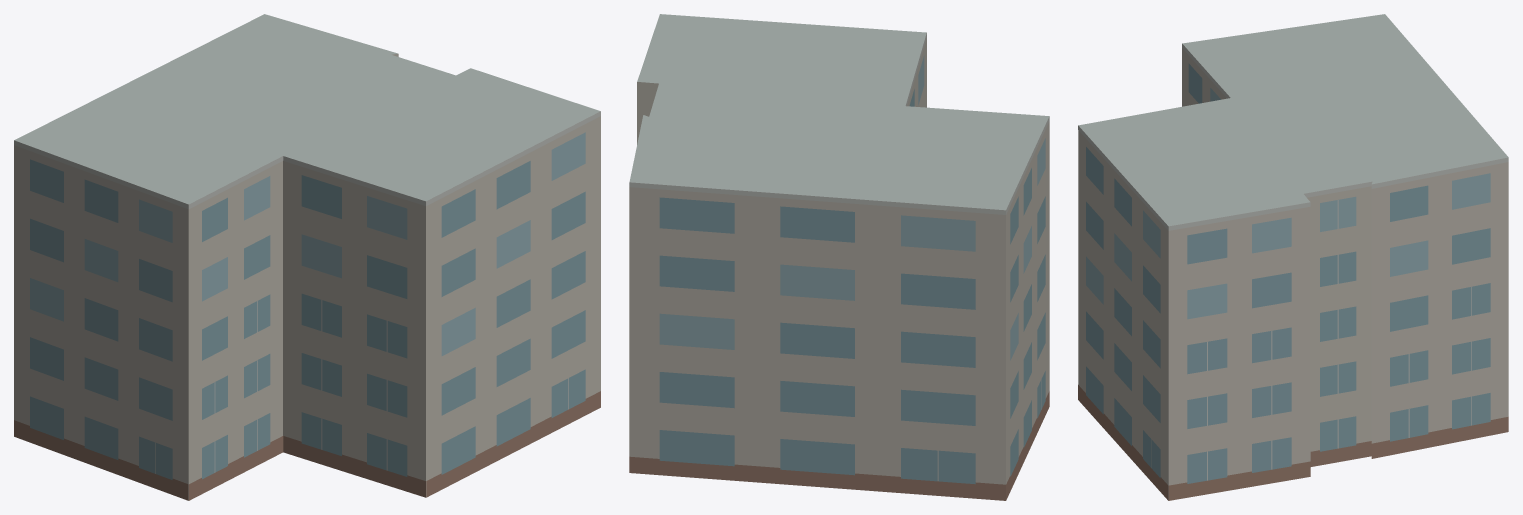
Rendered from survey-upis-32646698.glb.
3 views of the same model, side by side, from view 1: azimuth 30°, elevation 25°; view 2: azimuth 150°, elevation 25°; view 3: azimuth 270°, elevation 25° (orthographic). The views are drawn at different scales.
Parts seen in each view (by area): view 1: survey-upis-32646698.tmp; view 2: survey-upis-32646698.tmp; view 3: survey-upis-32646698.tmp.
Part boxes in pixels (x1=…): survey-upis-32646698.tmp: x1=14, y1=14, x2=600, y2=500; survey-upis-32646698.tmp: x1=629, y1=14, x2=1049, y2=500; survey-upis-32646698.tmp: x1=1078, y1=14, x2=1508, y2=500.
Bounding box in the file's own units: 24.73 × 14.9 × 21.19.
